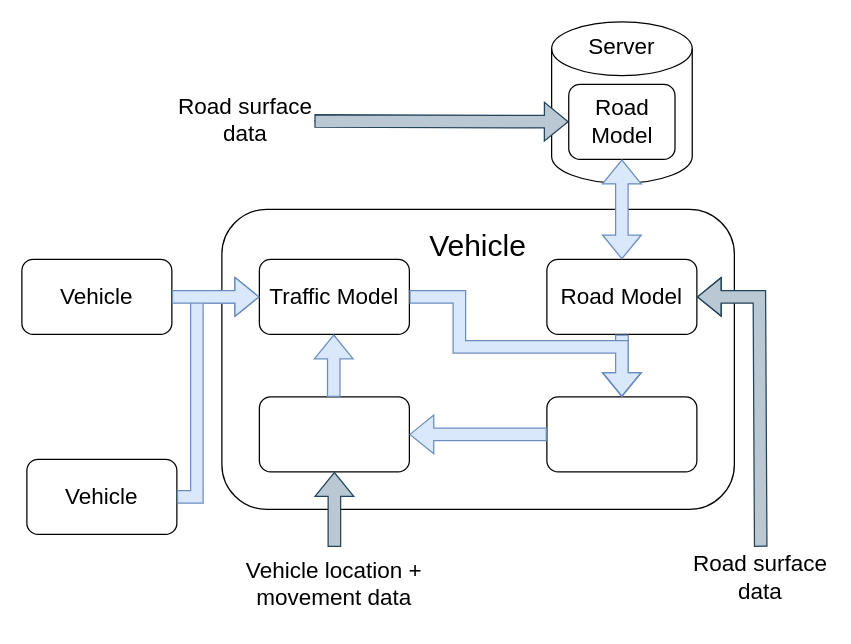
The diagram is 851 pixels wide and 644 high, and some of its shapes have lost their labels. The box of each missing label's shape, as (x1, y1, x2, y2) in pixels:
EcoTrec Engine: (546, 396, 697, 472)
Vehicle Model: (258, 396, 409, 472)
